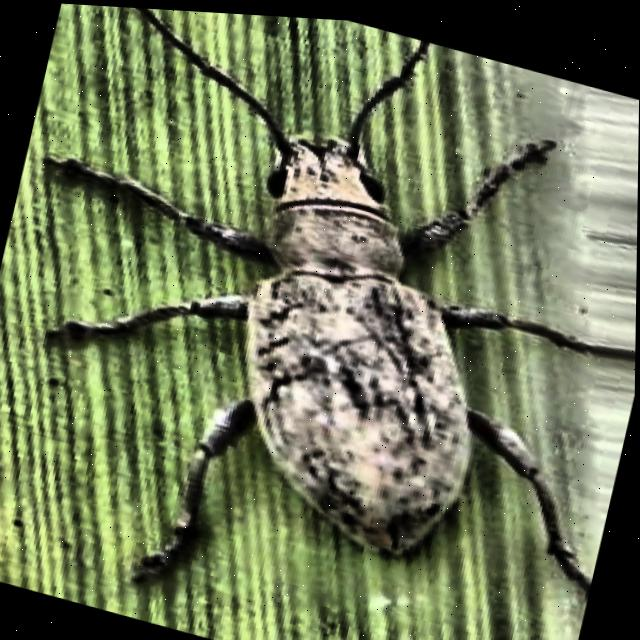Stink bug: (109, 73, 639, 563)
